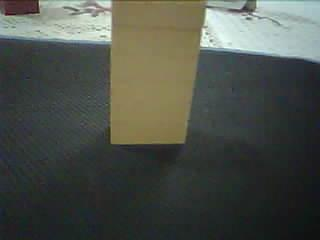lego: (109, 1, 206, 145)
